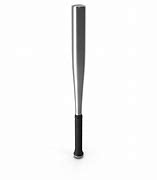bat: (69, 3, 87, 160)
